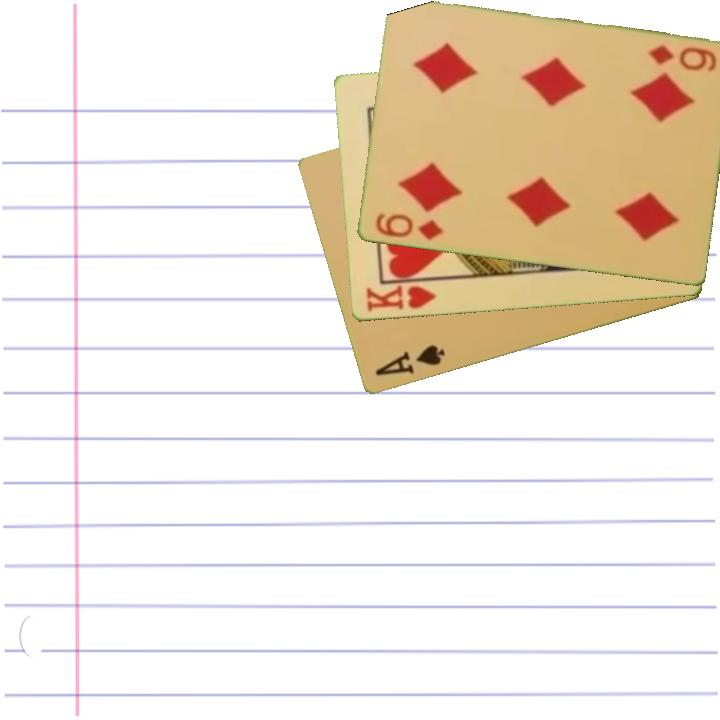6d: (371, 210, 446, 244), (644, 42, 719, 75)
As: (371, 341, 448, 380)
Kh: (362, 277, 443, 315)
